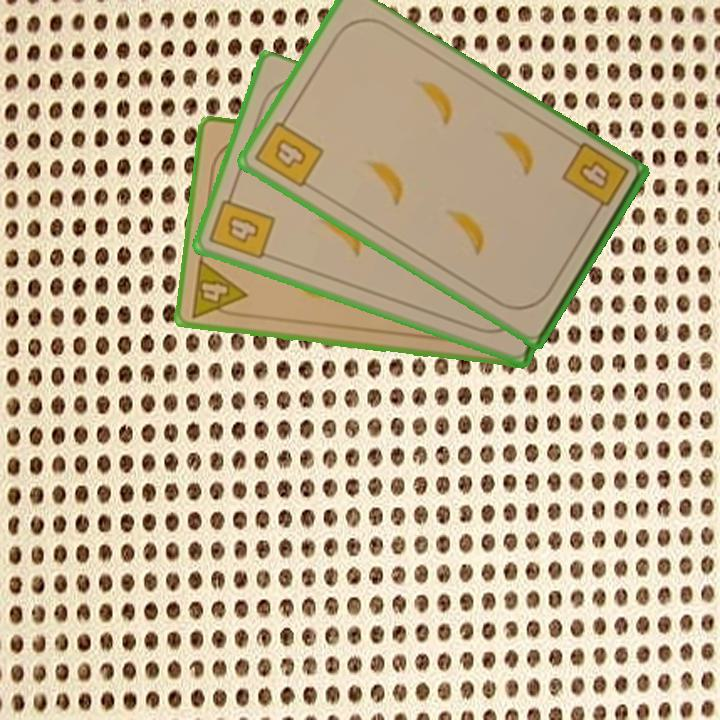4b: (251, 111, 327, 191), (558, 139, 632, 221), (206, 187, 278, 263)
4p: (187, 255, 250, 321)
